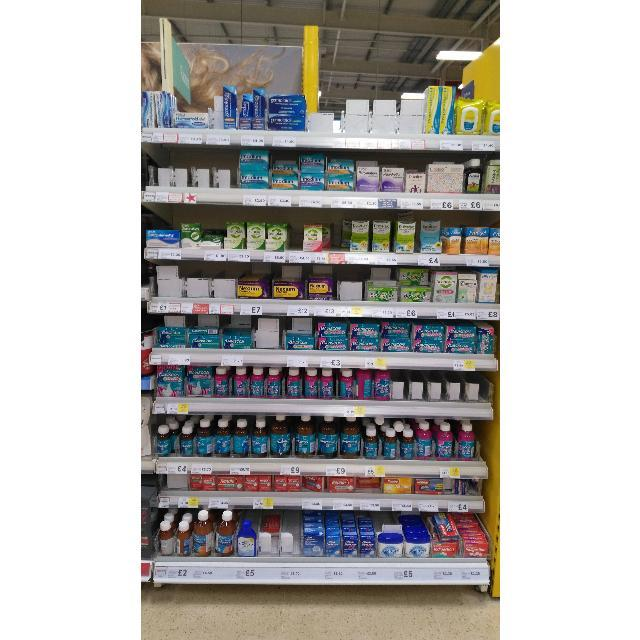empty: (290, 208, 302, 252), (332, 207, 341, 251)
front: (321, 248, 331, 252), (341, 248, 349, 252)
